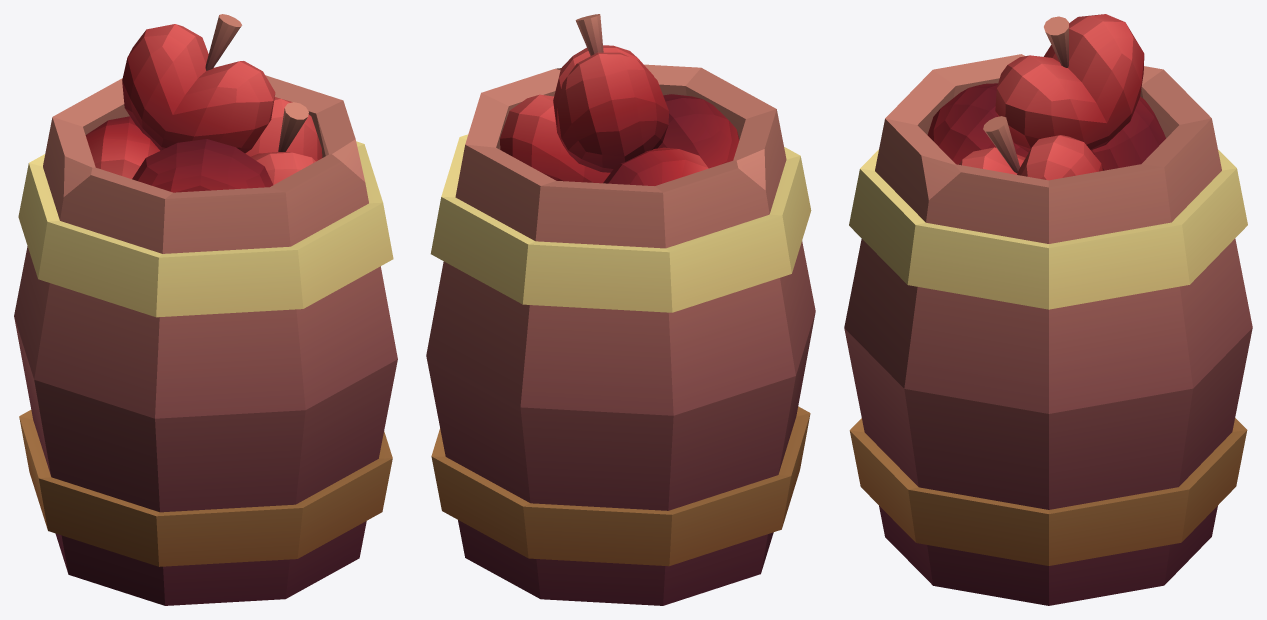
Rendered from HealthBarel.fbx.
3 views of the same model, side by side, from view 1: azimuth 30°, elevation 25°; view 2: azimuth 150°, elevation 25°; view 3: azimuth 270°, elevation 25° (orthographic). The views are drawn at different scales.
Visible parts, largest first — view 1: FilledBarel_Mesh; view 2: FilledBarel_Mesh; view 3: FilledBarel_Mesh.
Boxes of the visible parts, left/top/right/bottom form: FilledBarel_Mesh: left=14, top=14, right=397, bottom=605; FilledBarel_Mesh: left=426, top=14, right=815, bottom=605; FilledBarel_Mesh: left=844, top=14, right=1252, bottom=605.
Bounding box in the file's own units: 268 × 383 × 268.
